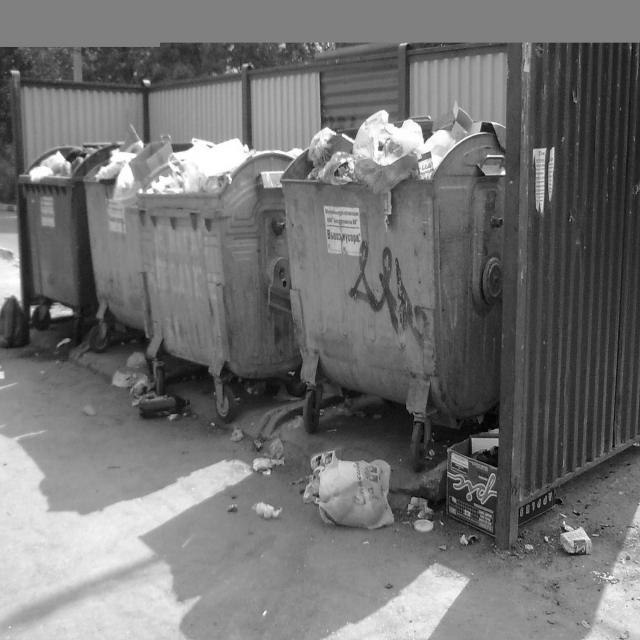Trashcan: (284, 95, 502, 467), (153, 116, 304, 421), (11, 100, 141, 338), (93, 114, 202, 344)
